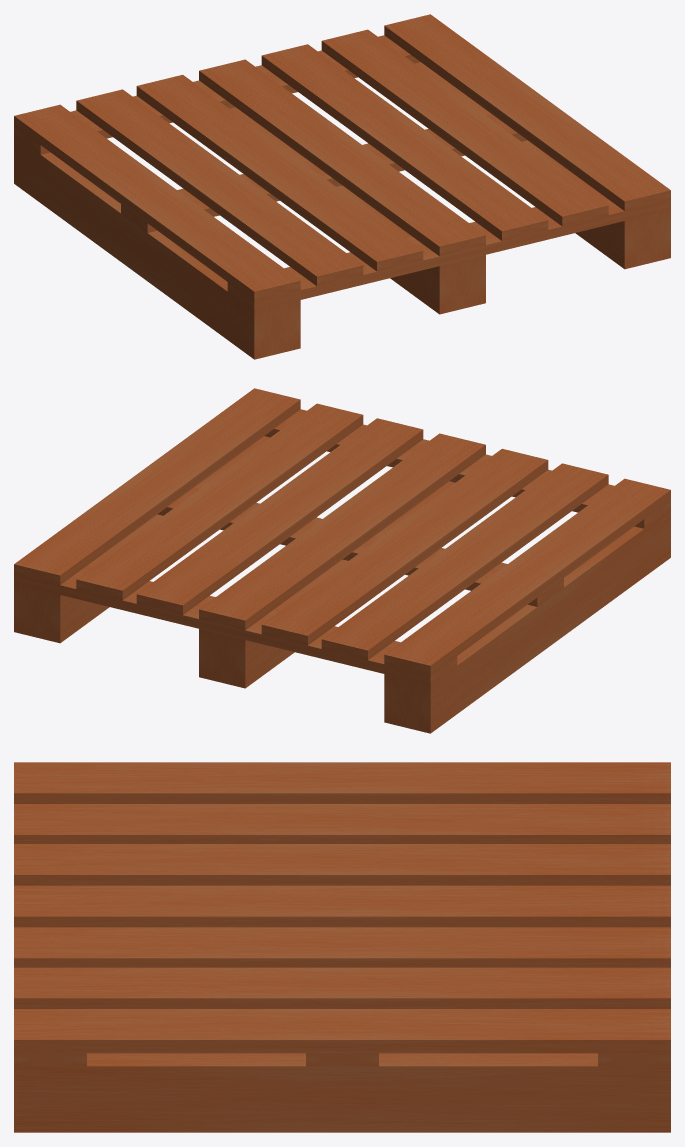
Rendered from Pallet.obj.
3 views of the same model, one above another, from view 1: azimuth 30°, elevation 25°; view 2: azimuth 150°, elevation 25°; view 3: azimuth 270°, elevation 25° (orthographic). The views are drawn at different scales.
Visible parts, largest first — view 1: mesh02, mesh15, mesh11, mesh13, mesh12, mesh10, mesh09, mesh14, mesh08, mesh03, mesh05, mesh04 (+1 smaller); view 2: mesh02, mesh15, mesh11, mesh13, mesh12, mesh10, mesh09, mesh14, mesh04, mesh03, mesh05, mesh08 (+1 smaller); view 3: mesh05, mesh14, mesh10, mesh15, mesh09, mesh13, mesh12, mesh11, mesh04, mesh06, mesh08.
Boxes of the visible parts, bbox=[...] form: mesh02: bbox=[14, 135, 300, 359]; mesh15: bbox=[321, 29, 608, 226]; mesh11: bbox=[76, 89, 363, 286]; mesh13: bbox=[136, 74, 423, 271]; mesh12: bbox=[261, 44, 548, 240]; mesh10: bbox=[199, 59, 485, 256]; mesh09: bbox=[14, 104, 300, 301]; mesh14: bbox=[384, 14, 670, 210]; mesh08: bbox=[227, 192, 670, 311]; mesh03: bbox=[230, 107, 485, 314]; mesh05: bbox=[415, 62, 670, 269]; mesh04: bbox=[14, 35, 420, 154]; mesh02: bbox=[384, 509, 670, 733]; mesh15: bbox=[76, 403, 363, 600]; mesh11: bbox=[321, 463, 608, 660]; mesh13: bbox=[261, 448, 548, 645]; mesh12: bbox=[136, 418, 423, 614]; mesh10: bbox=[199, 433, 485, 630]; mesh09: bbox=[384, 478, 670, 675]; mesh14: bbox=[14, 388, 300, 584]; mesh04: bbox=[14, 566, 457, 685]; mesh03: bbox=[199, 481, 454, 688]; mesh05: bbox=[14, 436, 269, 643]; mesh08: bbox=[264, 409, 670, 528]; mesh05: bbox=[14, 1053, 670, 1132]; mesh14: bbox=[14, 1009, 670, 1053]; mesh10: bbox=[14, 885, 670, 927]; mesh15: bbox=[14, 967, 670, 1008]; mesh09: bbox=[14, 762, 670, 803]; mesh13: bbox=[14, 844, 670, 885]; mesh12: bbox=[14, 927, 670, 967]; mesh11: bbox=[14, 804, 670, 843]; mesh04: bbox=[598, 1053, 670, 1066]; mesh06: bbox=[306, 1053, 378, 1066]; mesh08: bbox=[14, 1053, 86, 1066].
Size of the model in its own units: 9 by 1.4 by 9.
Materials: 1 (1 with a texture image).
